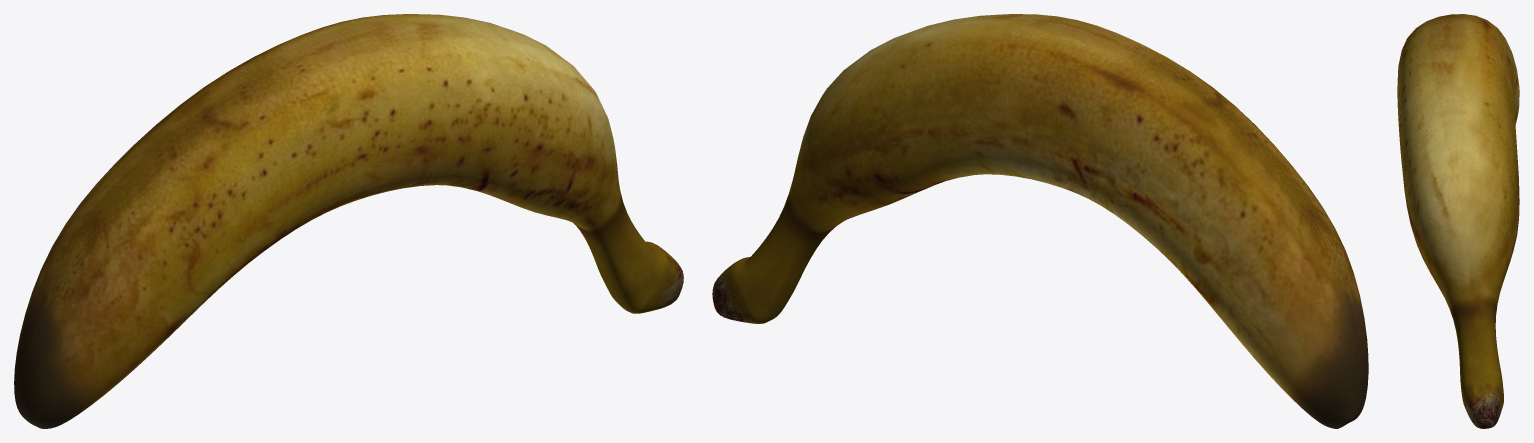
File: BrownBananaExocarp.obj
3 renders of one model, left to right at view 1: azimuth 30°, elevation 25°; view 2: azimuth 150°, elevation 25°; view 3: azimuth 270°, elevation 25°, orthographic. The views are drawn at different scales.
Visible parts, largest first — view 1: BrownBananaExocarp; view 2: BrownBananaExocarp; view 3: BrownBananaExocarp.
Boxes of the visible parts, left/top/right/bottom form: BrownBananaExocarp: left=14, top=14, right=683, bottom=428; BrownBananaExocarp: left=712, top=14, right=1368, bottom=428; BrownBananaExocarp: left=1397, top=14, right=1519, bottom=428.
Size of the model in its own units: 0.2023 by 0.1061 by 0.0433.
1 material, 1 textured.
